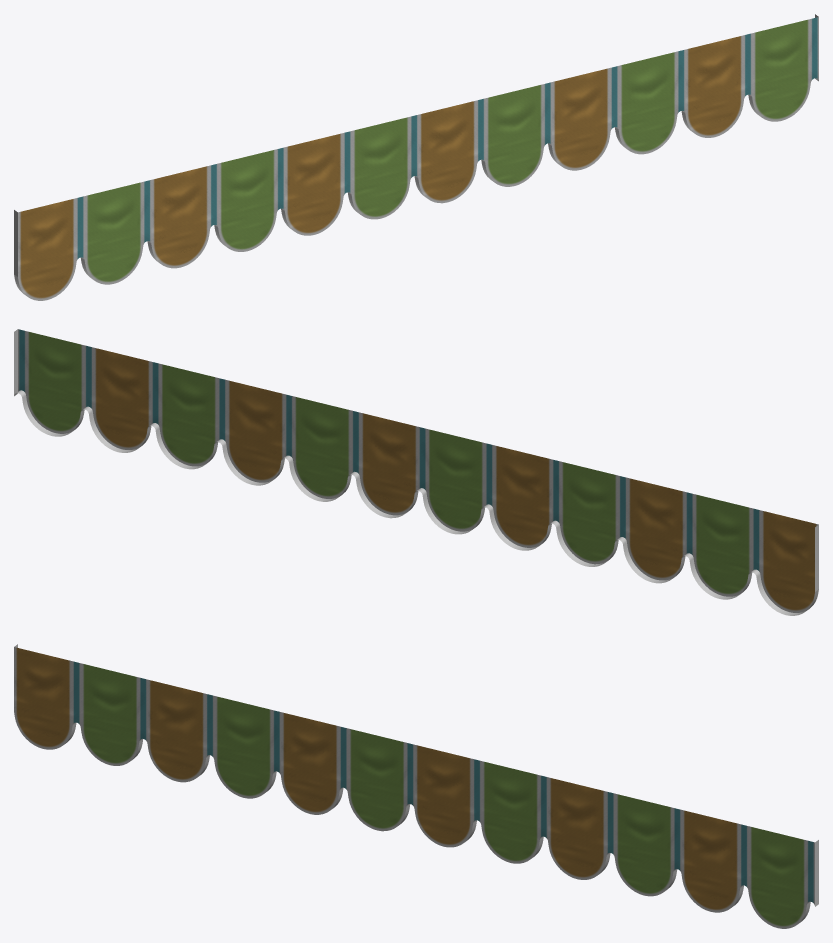
The model's file is Cloth.fbx.
3 renders of one model, top to bottom at view 1: azimuth 30°, elevation 25°; view 2: azimuth 150°, elevation 25°; view 3: azimuth 330°, elevation 25°, orthographic.
Visible parts, largest first — view 1: Cloth; view 2: Cloth; view 3: Cloth.
Boxes of the visible parts, bbox=[...] form: Cloth: bbox=[14, 14, 818, 300]; Cloth: bbox=[14, 329, 818, 615]; Cloth: bbox=[14, 644, 818, 928].
Bounding box in the file's own units: 10.21 × 1.16 × 0.0865.
